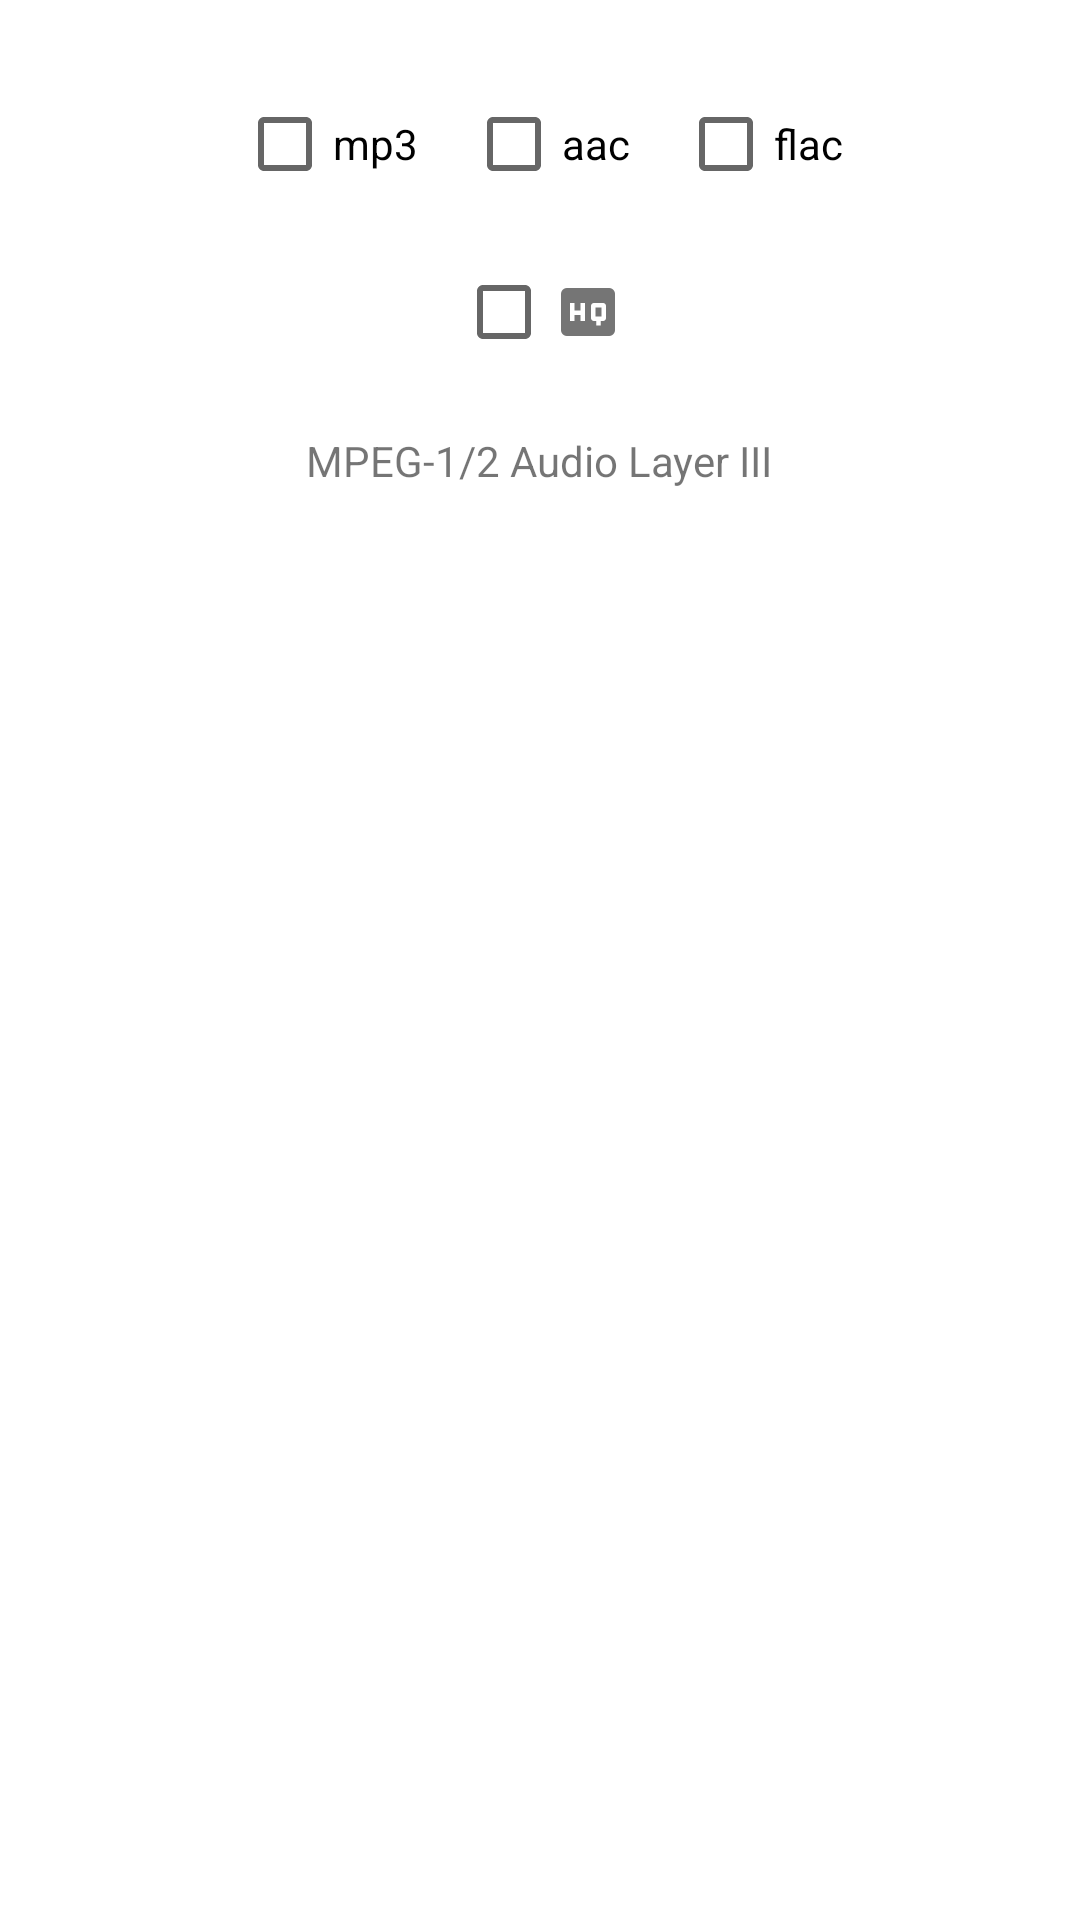

Point at icon controls on the screen. Image size 1080 x 1920, points as (x,y).
high quality: (588,312)
